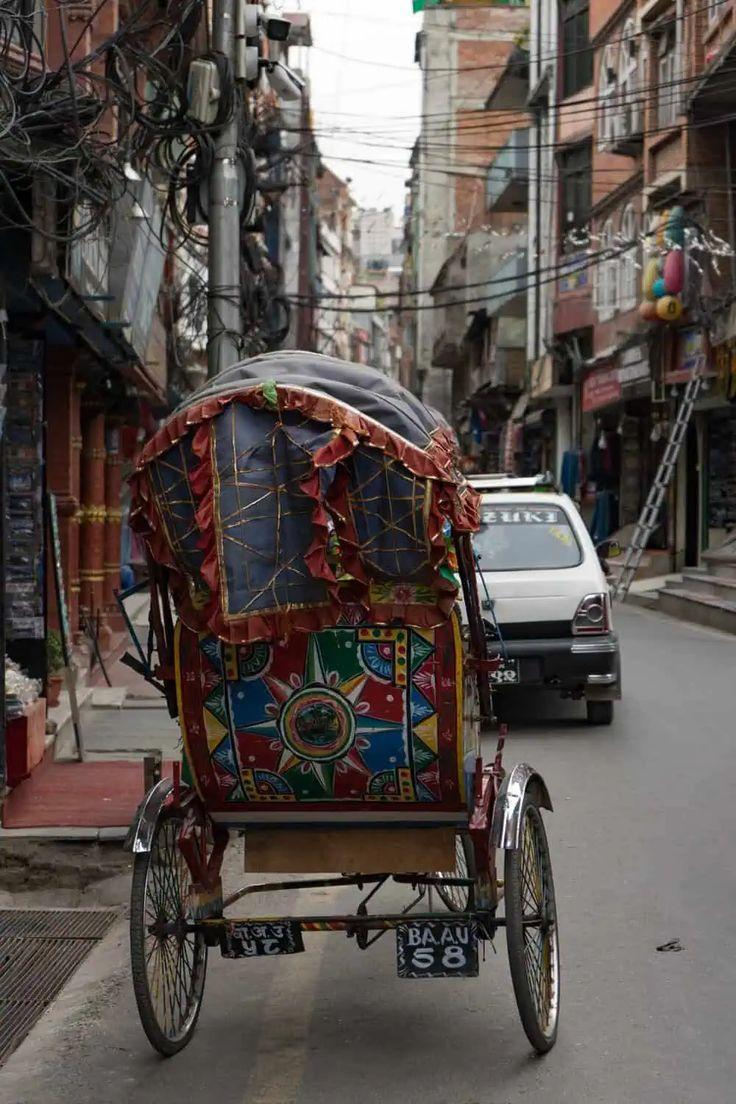Rickshaw: (128, 353, 558, 1054)
